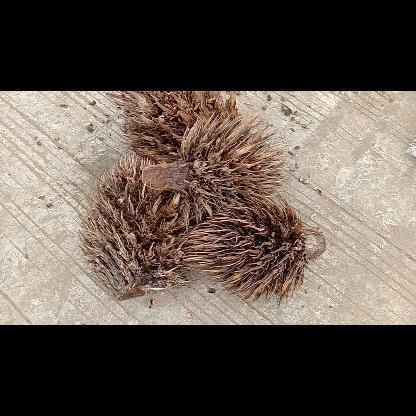Janjang kosong: (79, 152, 197, 300), (181, 196, 325, 304), (140, 113, 288, 217), (114, 91, 238, 164)
